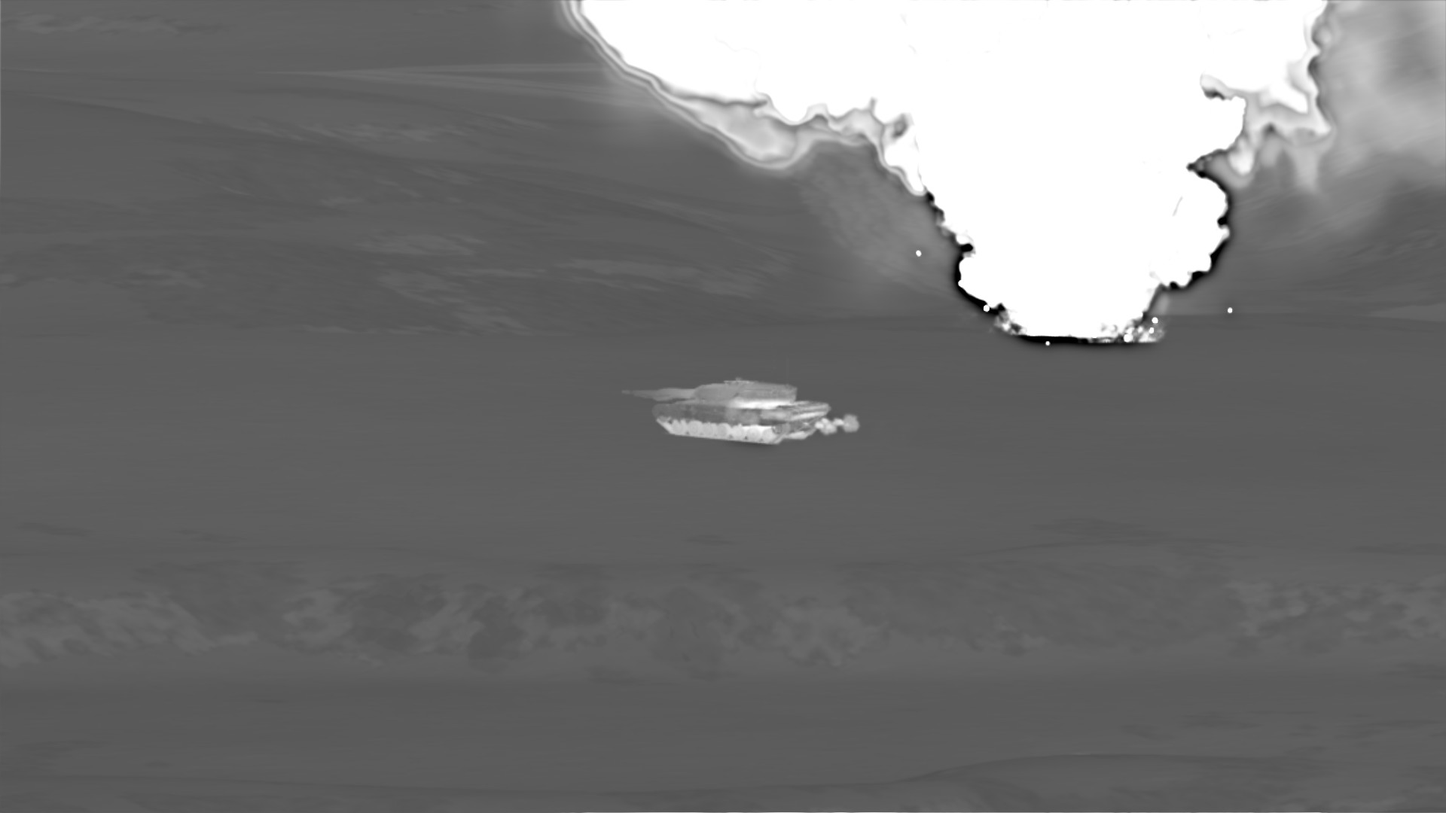leopard2: (622, 377, 831, 446)
